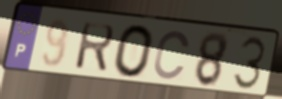3: (230, 34, 268, 93)
8: (193, 30, 230, 90)
9: (40, 17, 73, 69)
C: (151, 29, 192, 82)
O: (111, 23, 156, 80)
R: (72, 20, 116, 75)
